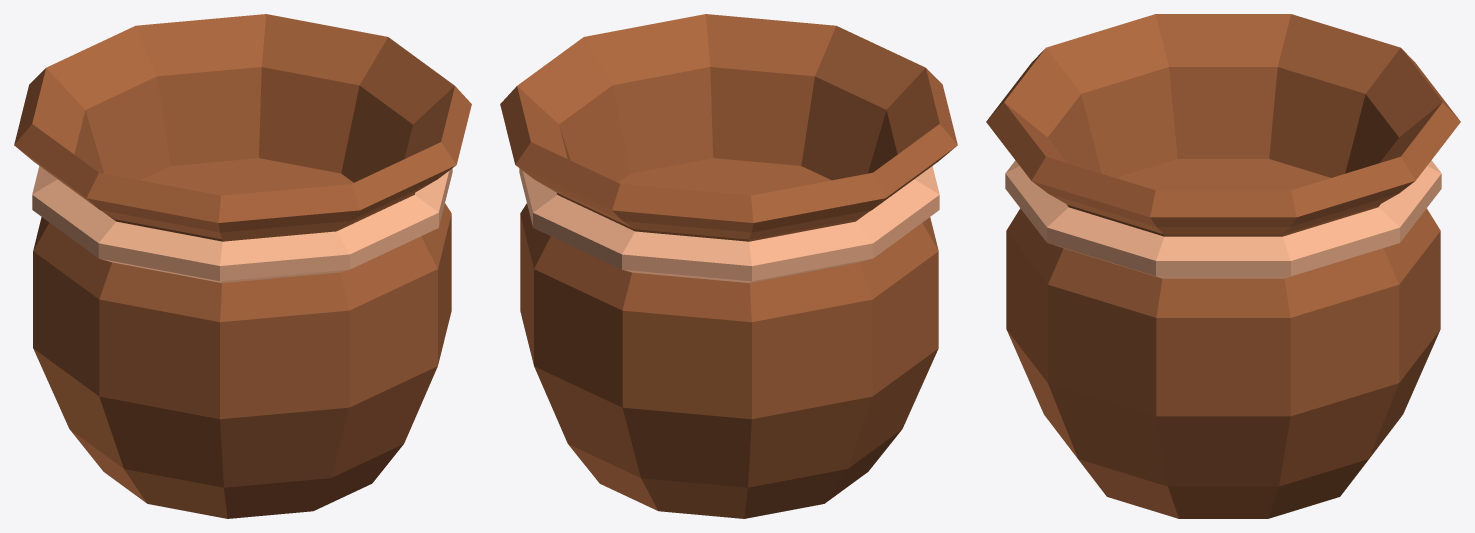
The model's file is Bag.fbx.
The picture shows the model from 3 angles, left to right: view 1: azimuth 30°, elevation 25°; view 2: azimuth 150°, elevation 25°; view 3: azimuth 270°, elevation 25°; orthographic projection.
Parts seen in each view (by area): view 1: Bag; view 2: Bag; view 3: Bag.
Boxes of the visible parts, x1,y1,x2,y2 form: Bag: (14, 14, 471, 518); Bag: (500, 14, 957, 518); Bag: (986, 14, 1460, 518).
Bounding box in the file's own units: 44.6 × 39.16 × 46.9.
